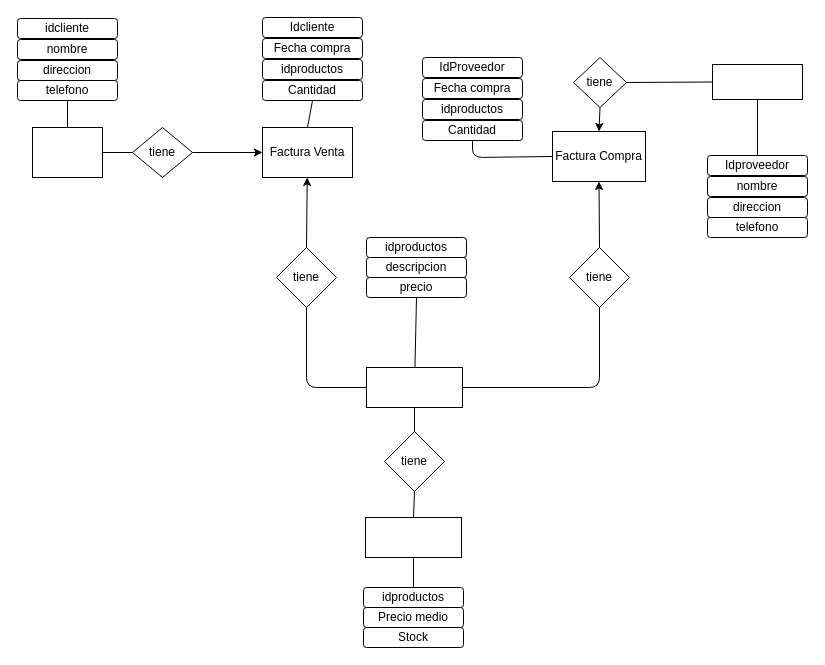
Some shapes in this 825 by 665 pixel diagram are drawn without their labels. The centre of each missing label's shape, as x and y in pixels:
Bodega: the point at 413,537
Clientes: the point at 67,152
proveedores: the point at 757,82
video juegos: the point at 414,387
